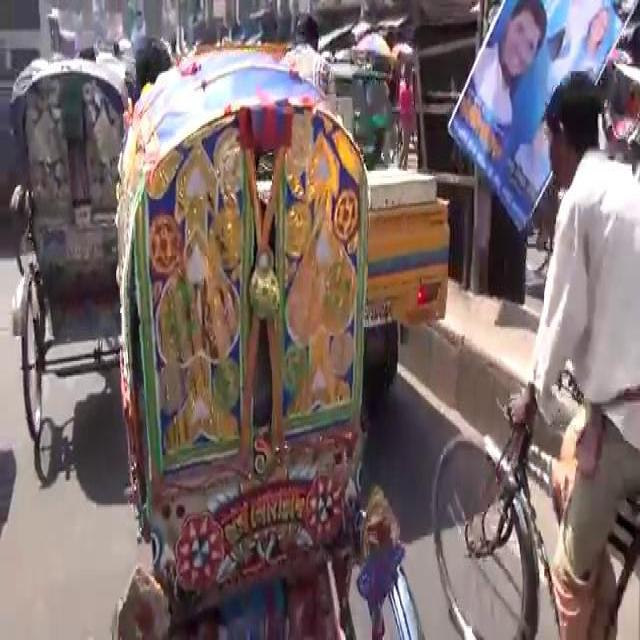bus: (0, 0, 53, 80)
pickup: (366, 160, 448, 427)
rickshaw: (99, 30, 427, 638), (431, 66, 639, 634), (8, 49, 130, 449)
three wheelers -CNG-: (331, 55, 392, 169)
